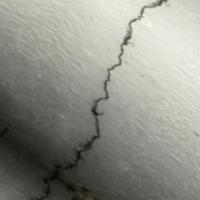crack: (37, 3, 199, 199)
